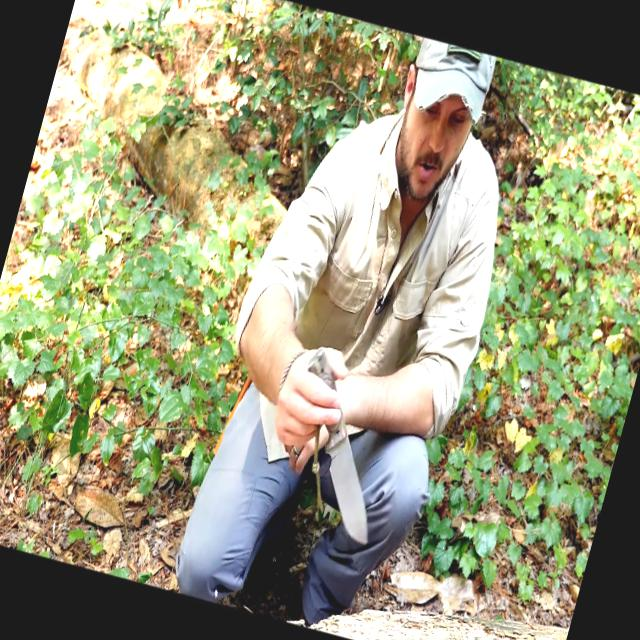knife: (249, 354, 416, 556)
